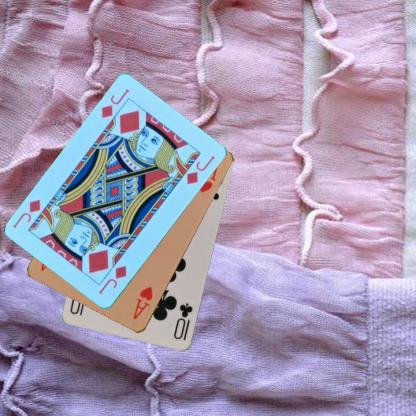10c: (171, 300, 194, 341)
Ah: (130, 284, 155, 321)
Jd: (98, 87, 131, 120), (96, 263, 128, 296)
